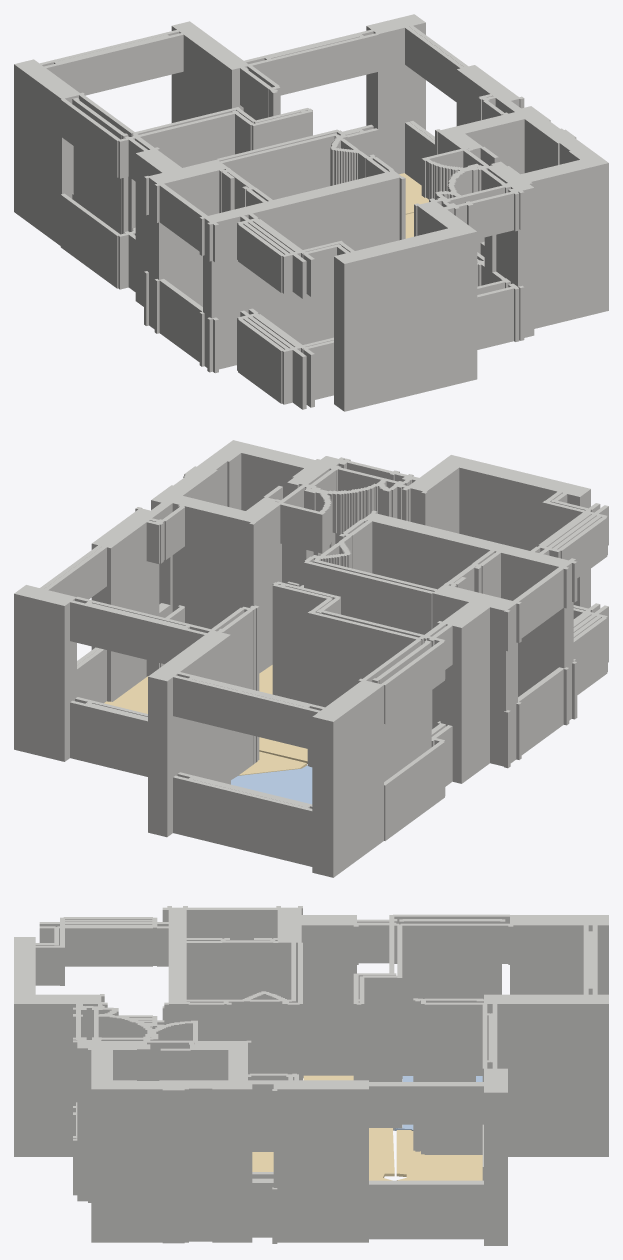
3 renders of one model, top to bottom at view 1: azimuth 30°, elevation 25°; view 2: azimuth 150°, elevation 25°; view 3: azimuth 270°, elevation 25°, orthographic. The views are drawn at different scales.
Visible parts, largest first — view 1: walls, room:living:0; view 2: walls, room:bedroom:6, room:living:1, room:living:0; view 3: walls, room:living:0, room:living:1.
Part boxes in pixels (box(x1,y1,x2,y2)): walls: box(14, 14, 608, 411); room:living:0: box(399, 173, 428, 214); walls: box(14, 440, 608, 877); room:bedroom:6: box(231, 765, 312, 804); room:living:1: box(104, 665, 307, 763); room:living:0: box(239, 751, 306, 775); walls: box(14, 906, 608, 1245); room:living:0: box(396, 1130, 482, 1180); room:living:1: box(252, 1075, 394, 1180).
Bounding box in the file's own units: 7.32 × 2.8 × 9.86.
